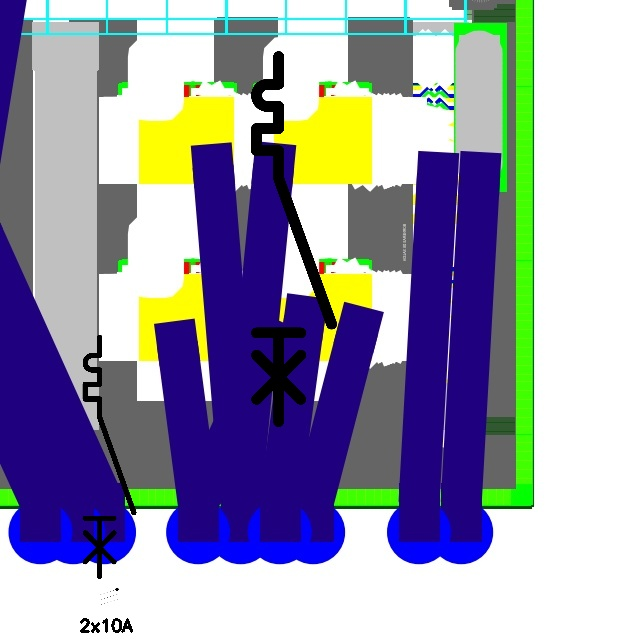interruptor_termomagnetico: (247, 47, 341, 431), (79, 331, 140, 583)
